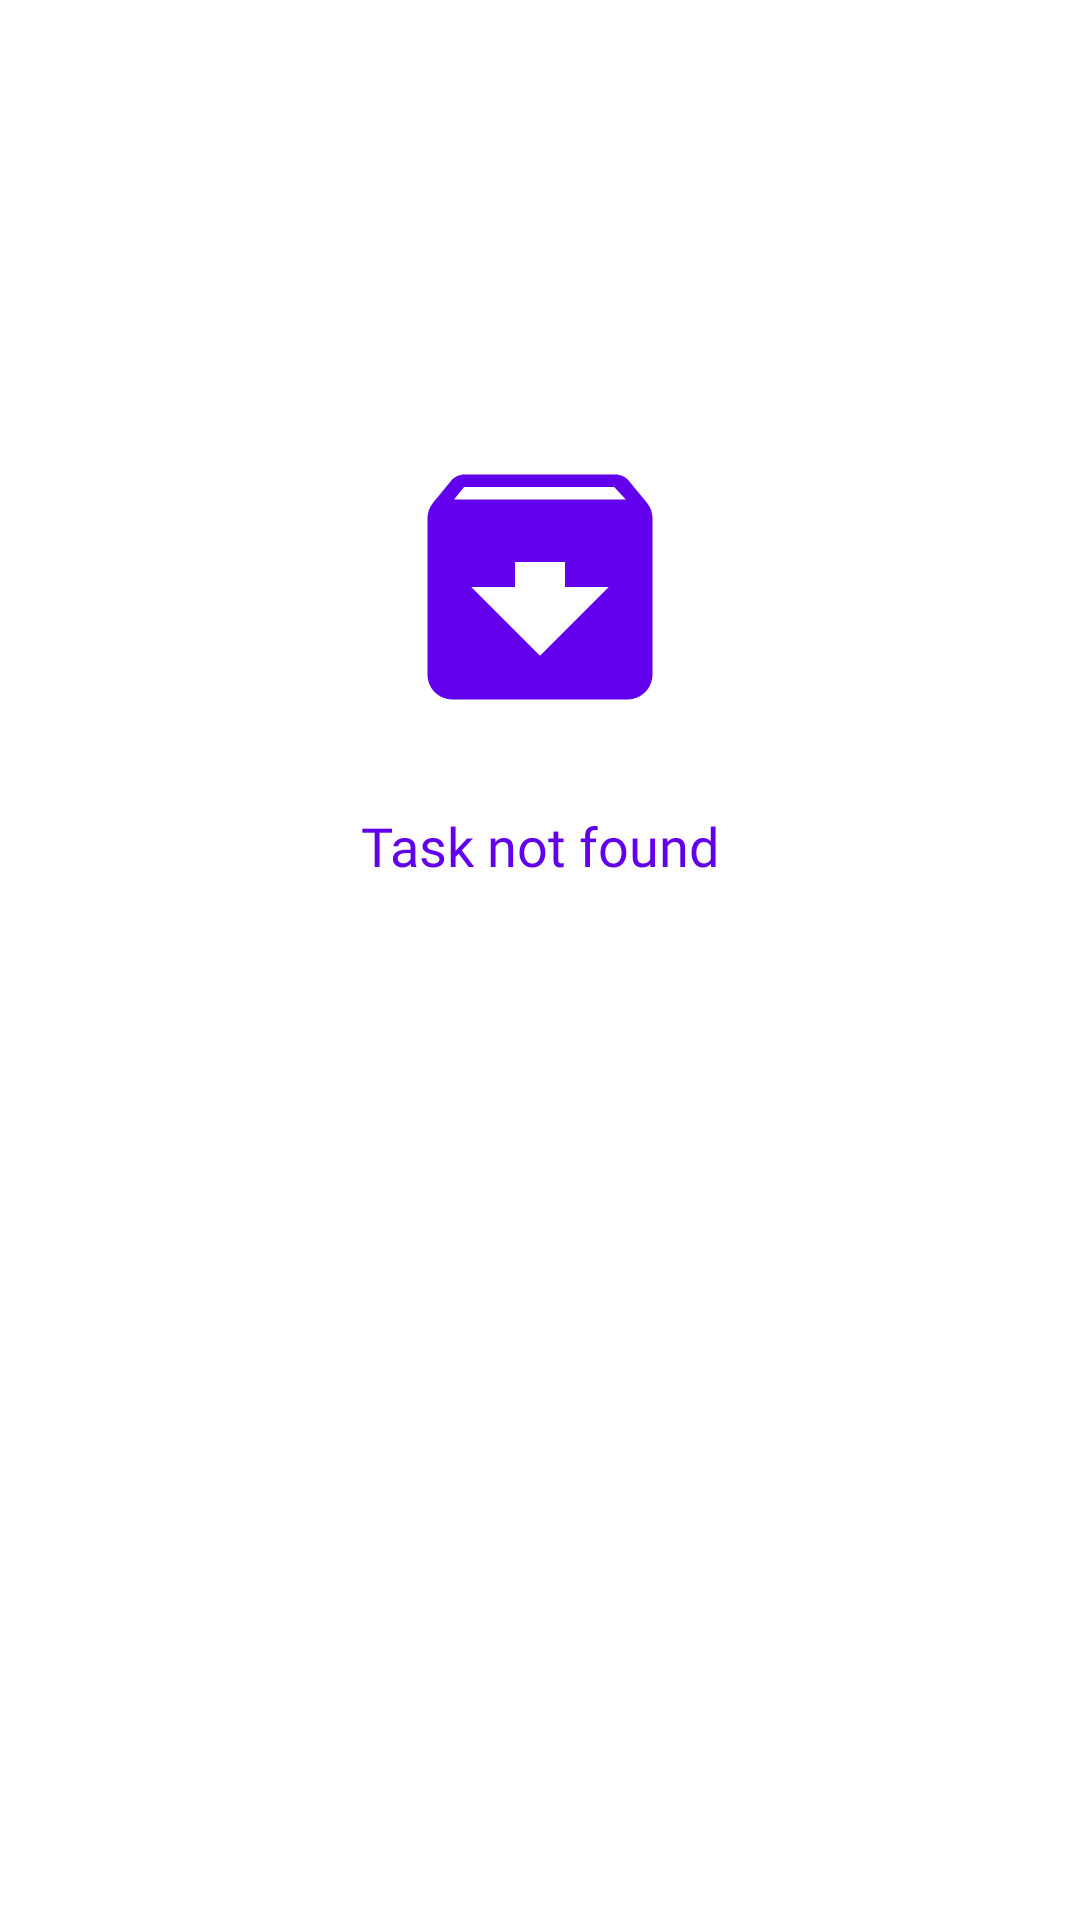

Where to tap for icons on this 1080×1920 app screen, as [x,y]:
archive: [540,587]
